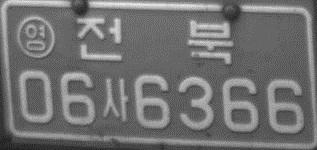0: (17, 69, 54, 125)
3: (177, 75, 214, 132)
6: (266, 78, 305, 135), (221, 77, 259, 133), (133, 73, 170, 130), (59, 71, 96, 126)
사: (102, 78, 130, 122)
영: (16, 15, 55, 59)
전북_D: (75, 16, 235, 65)
